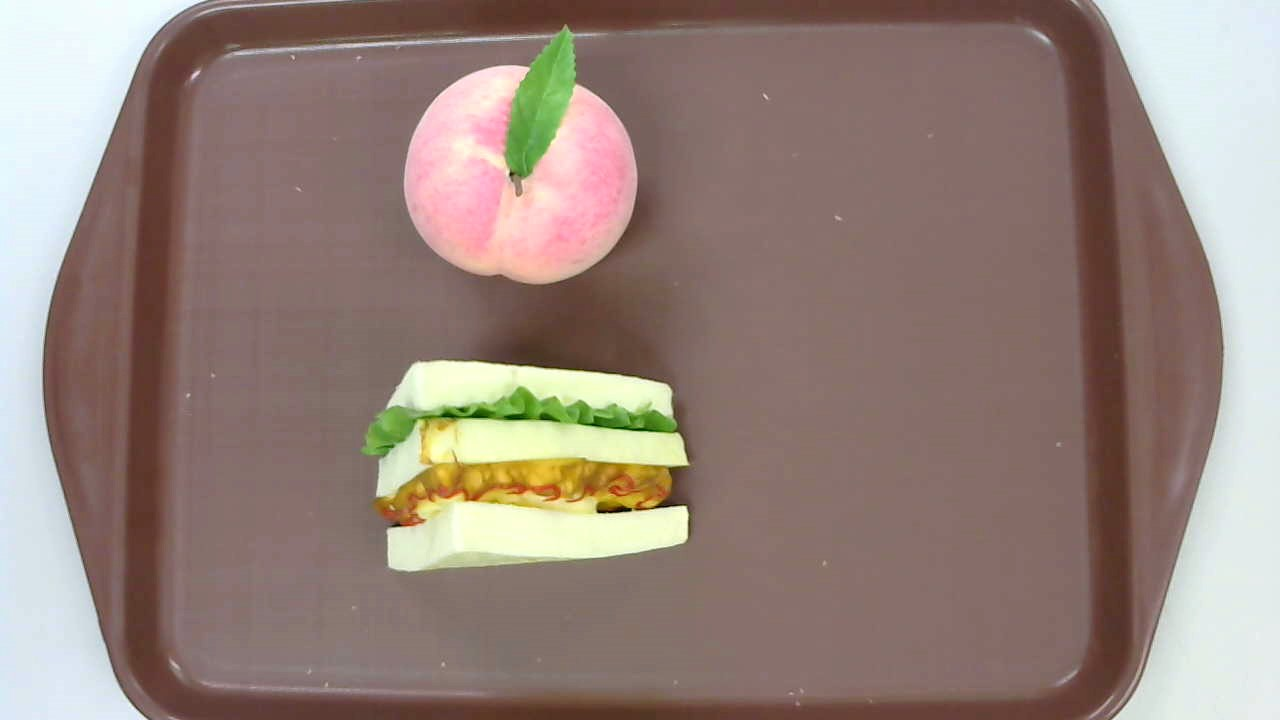peach: (402, 24, 638, 287)
sandwich: (360, 359, 691, 573)
